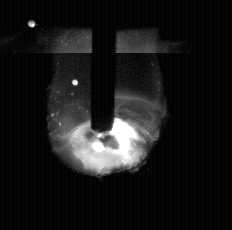arame: (92, 0, 116, 132)
poca: (48, 0, 160, 230)
